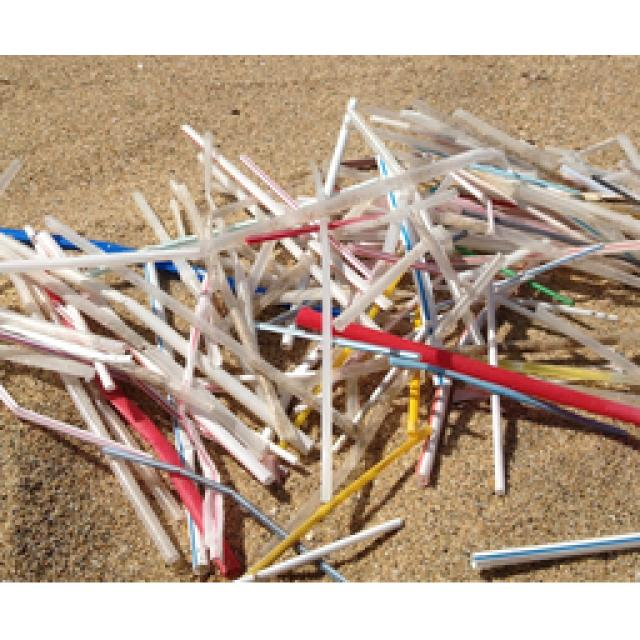plastic: (0, 98, 638, 580), (470, 532, 638, 568)
